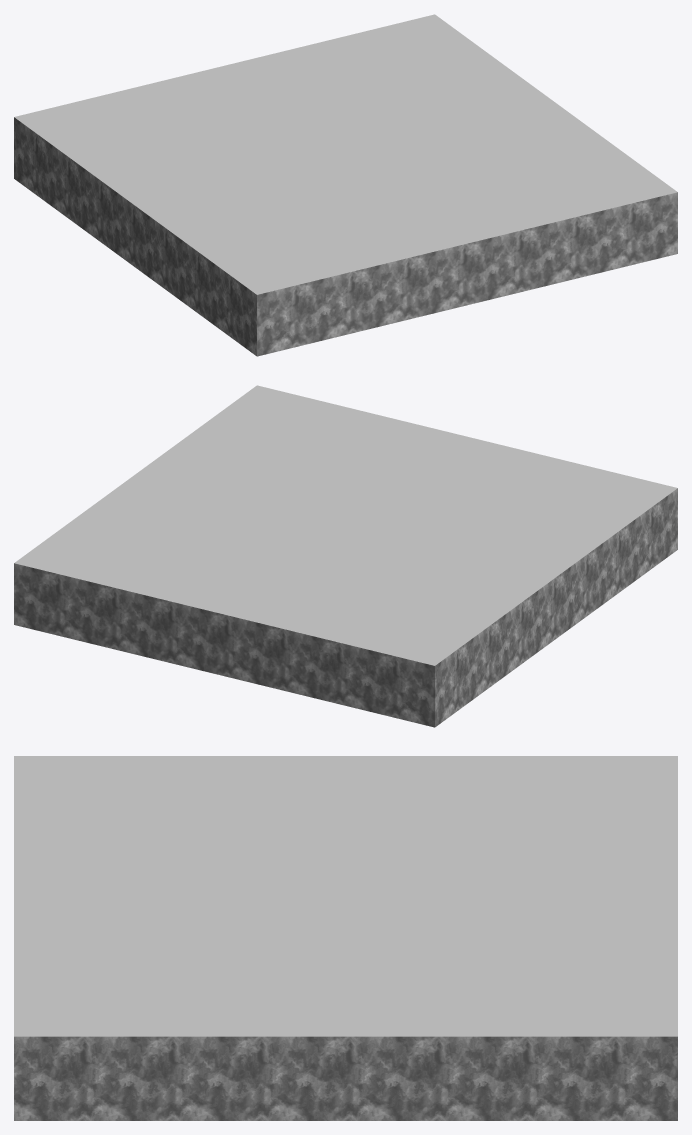
3 renders of one model, top to bottom at view 1: azimuth 30°, elevation 25°; view 2: azimuth 150°, elevation 25°; view 3: azimuth 270°, elevation 25°, orthographic. The views are drawn at different scales.
Parts seen in each view (by area): view 1: SM_floor_module; view 2: SM_floor_module; view 3: SM_floor_module.
Part boxes in pixels (x1,y1,x2,y2): SM_floor_module: (14, 14, 677, 356); SM_floor_module: (14, 385, 677, 727); SM_floor_module: (14, 756, 677, 1120).
Size of the model in its own units: 3000 by 3000 by 420.
2 materials, 1 textured.
